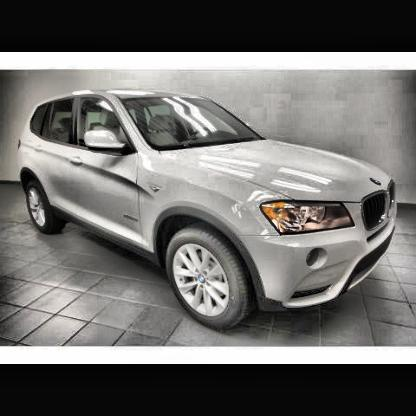BMW X3 SUV 2012: (18, 91, 400, 338)
